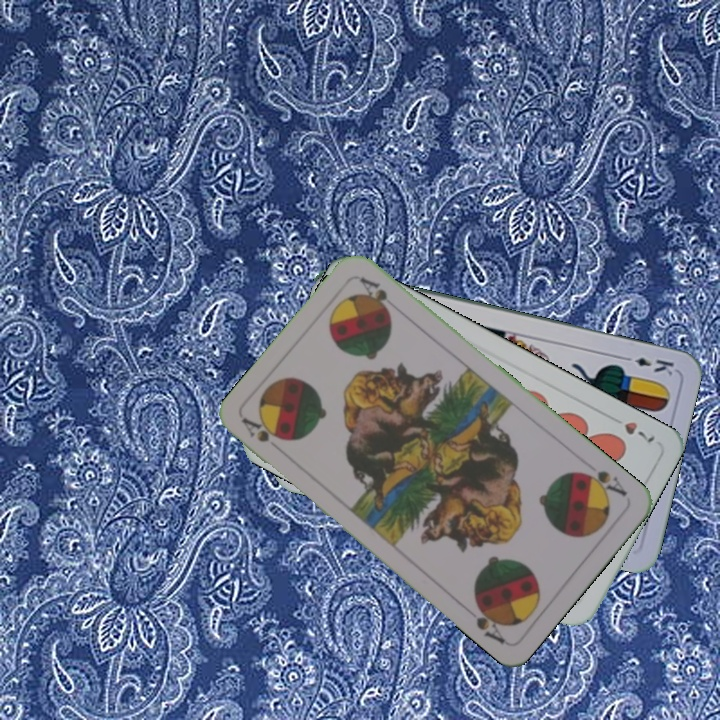EK: (618, 352, 677, 378)
H7: (605, 411, 658, 446)
SA: (238, 414, 288, 458), (574, 466, 630, 501)
